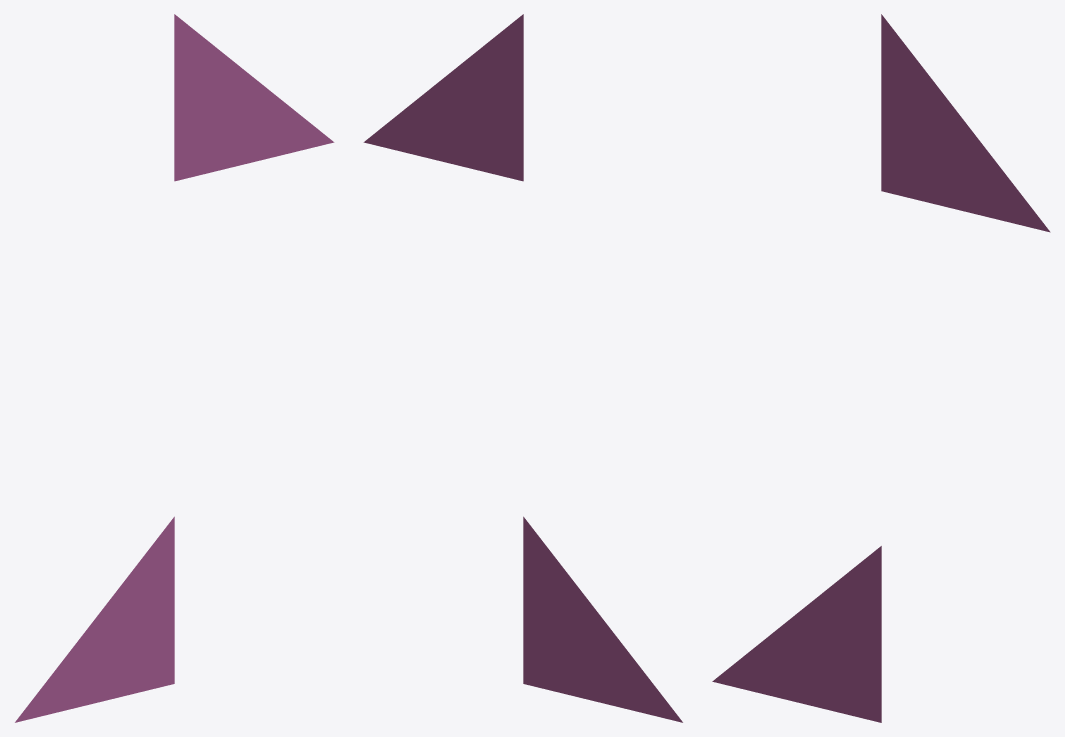
The model's file is pbr_material.glb.
The picture shows the model from 3 angles, left to right: view 1: azimuth 30°, elevation 25°; view 2: azimuth 150°, elevation 25°; view 3: azimuth 330°, elevation 25°; orthographic projection. The views are drawn at different scales.
Bounding box in the file's own units: 2 × 4 × 0.
1 material, 1 textured.
